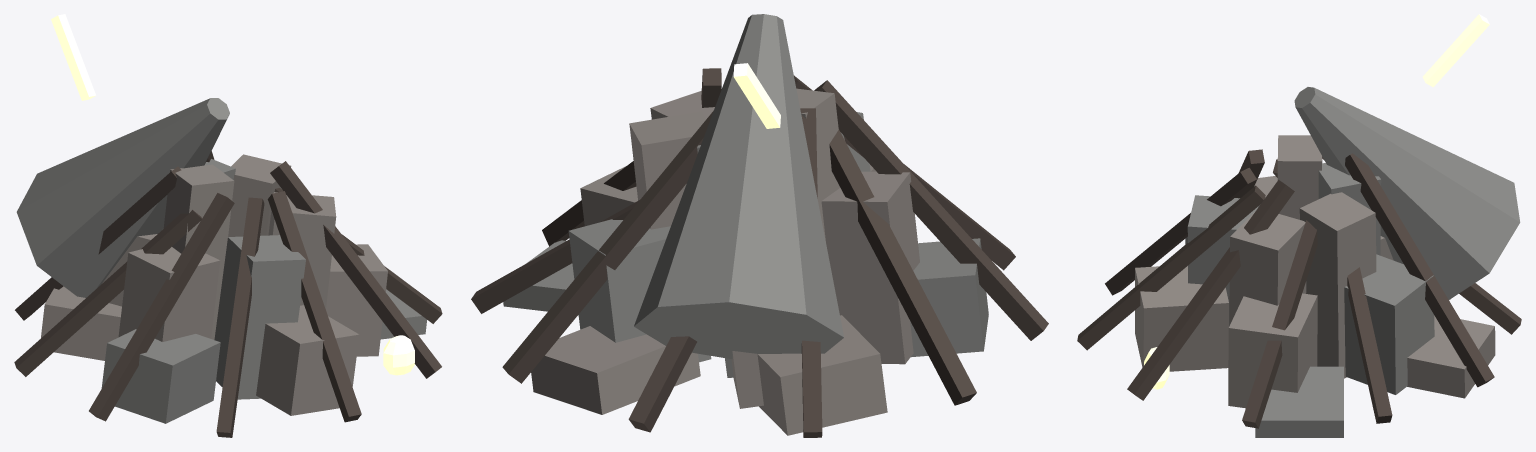
The model's file is 20_fleche_debris.glb.
3 renders of one model, left to right at view 1: azimuth 30°, elevation 25°; view 2: azimuth 150°, elevation 25°; view 3: azimuth 270°, elevation 25°, orthographic. The views are drawn at different scales.
Visible parts, largest first — view 1: fleche_debris_fspentlead, fleche_debris_fsoot, fleche_debris_fcharred, fleche_debris_gold_nocol; view 2: fleche_debris_fspentlead, fleche_debris_fsoot, fleche_debris_fcharred, fleche_debris_gold_nocol; view 3: fleche_debris_fspentlead, fleche_debris_fsoot, fleche_debris_fcharred, fleche_debris_gold_nocol.
Part boxes in pixels (<box>): fleche_debris_fspentlead: <box>16,98,426,423</box>; fleche_debris_fsoot: <box>41,154,387,415</box>; fleche_debris_fcharred: <box>14,151,442,437</box>; fleche_debris_gold_nocol: <box>51,14,414,375</box>; fleche_debris_fspentlead: <box>503,14,988,377</box>; fleche_debris_fsoot: <box>531,88,919,435</box>; fleche_debris_fcharred: <box>471,68,1048,437</box>; fleche_debris_gold_nocol: <box>733,63,780,128</box>; fleche_debris_fspentlead: <box>1185,87,1520,437</box>; fleche_debris_fsoot: <box>1135,135,1495,408</box>; fleche_debris_fcharred: <box>1077,149,1521,428</box>; fleche_debris_gold_nocol: <box>1144,14,1489,389</box>.
Size of the model in its own units: 12.89 by 9.76 by 13.06.
